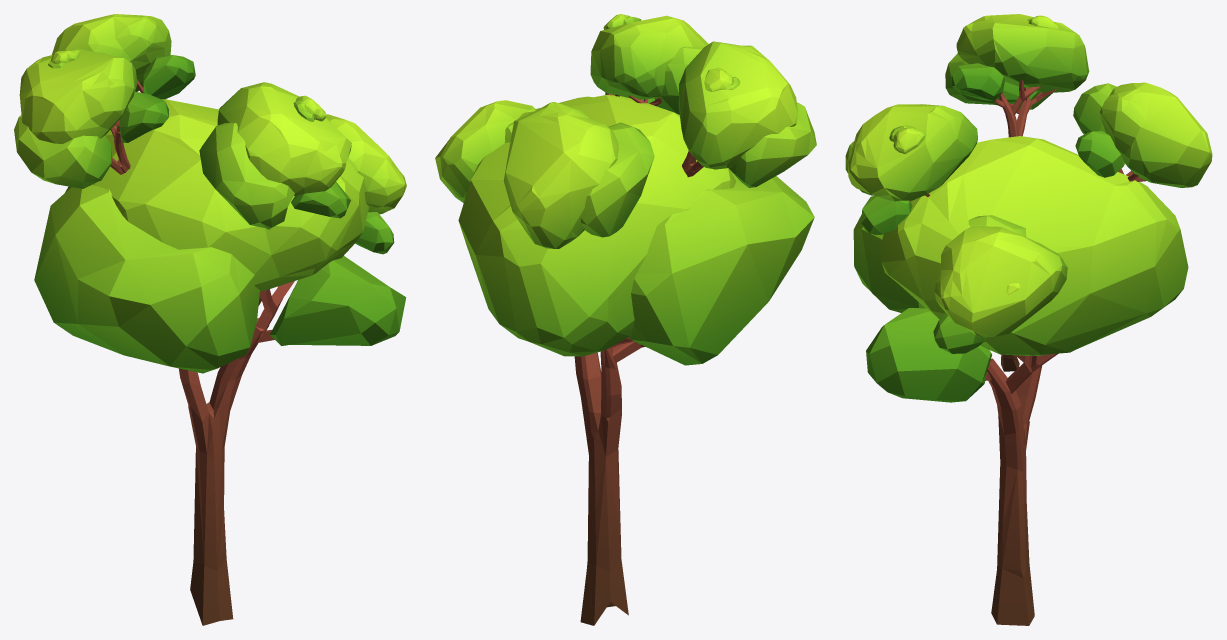
Rendered from samor_4077_133_FractalBroad.fbx.
3 views of the same model, side by side, from view 1: azimuth 30°, elevation 25°; view 2: azimuth 150°, elevation 25°; view 3: azimuth 270°, elevation 25° (orthographic). The views are drawn at different scales.
Parts seen in each view (by area): view 1: samor_4077_133_FractalBroad; view 2: samor_4077_133_FractalBroad; view 3: samor_4077_133_FractalBroad.
Boxes of the visible parts, left/top/right/bottom form: samor_4077_133_FractalBroad: left=14, top=14, right=406, bottom=625; samor_4077_133_FractalBroad: left=435, top=14, right=816, bottom=625; samor_4077_133_FractalBroad: left=845, top=14, right=1212, bottom=625.
Bounding box in the file's own units: 14.59 × 22.61 × 13.72.
1 material, 1 textured.
